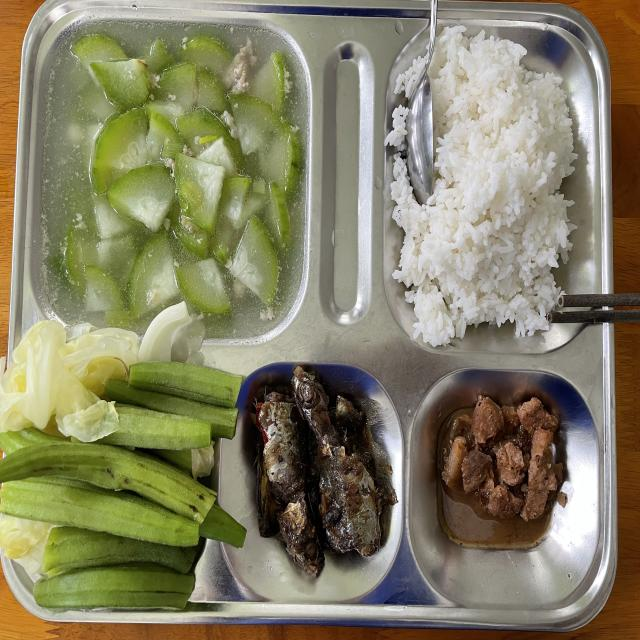bap cai luoc: (0, 320, 140, 440)
ca kho: (256, 366, 398, 575)
canh bau: (30, 23, 310, 339)
com: (391, 25, 578, 347), (394, 56, 424, 99), (385, 105, 408, 150)
dau bap: (0, 362, 246, 609)
kho tieu: (440, 395, 563, 521)
